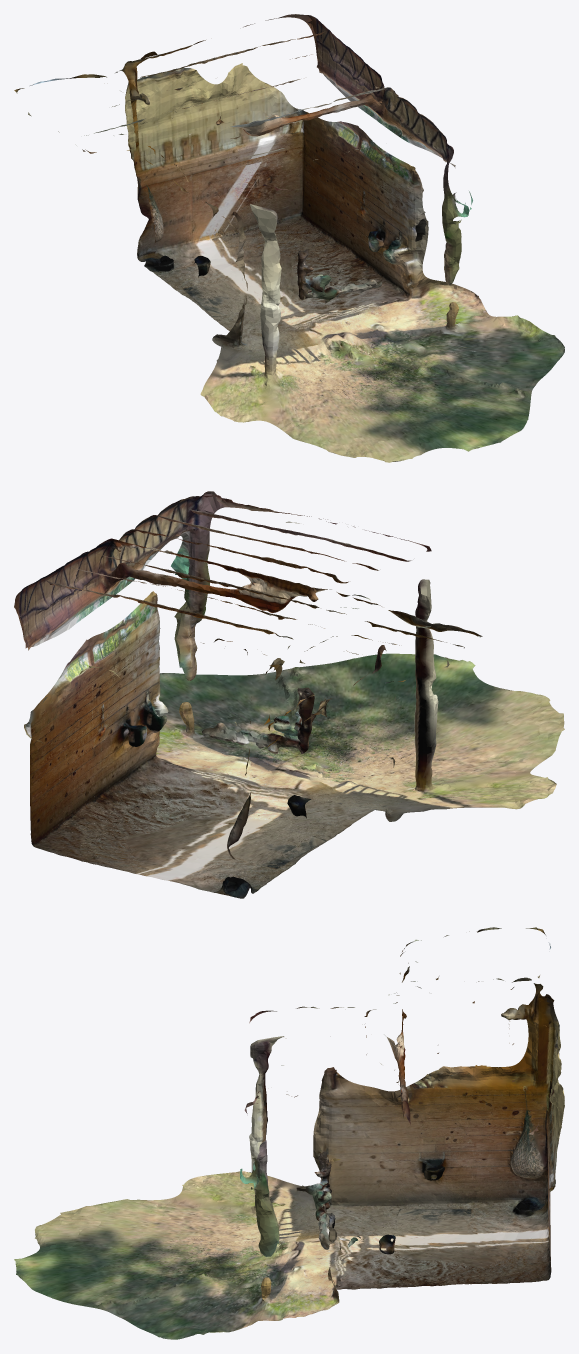
The model's file is indoor-stall.glb.
3 renders of one model, top to bottom at view 1: azimuth 30°, elevation 25°; view 2: azimuth 150°, elevation 25°; view 3: azimuth 270°, elevation 25°, orthographic. The views are drawn at different scales.
Bounding box in the file's own units: 7.63 × 4.38 × 9.23.
Materials: 1 (1 with a texture image).
